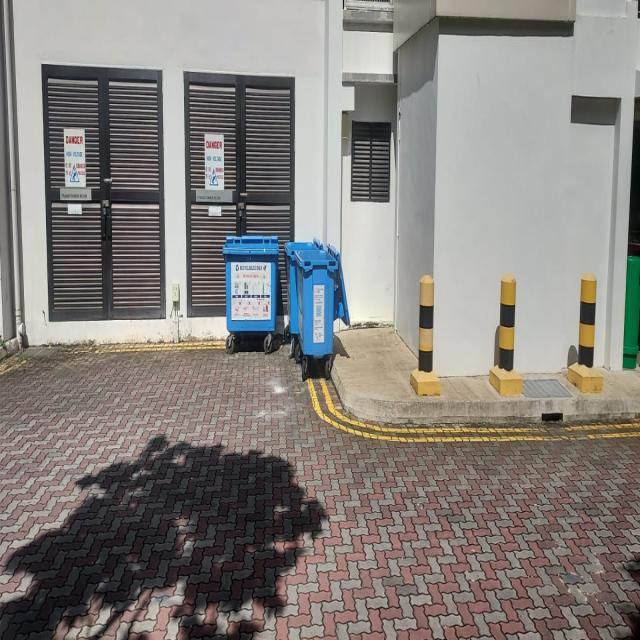bin_empty: (284, 237, 343, 379), (220, 233, 279, 354)
